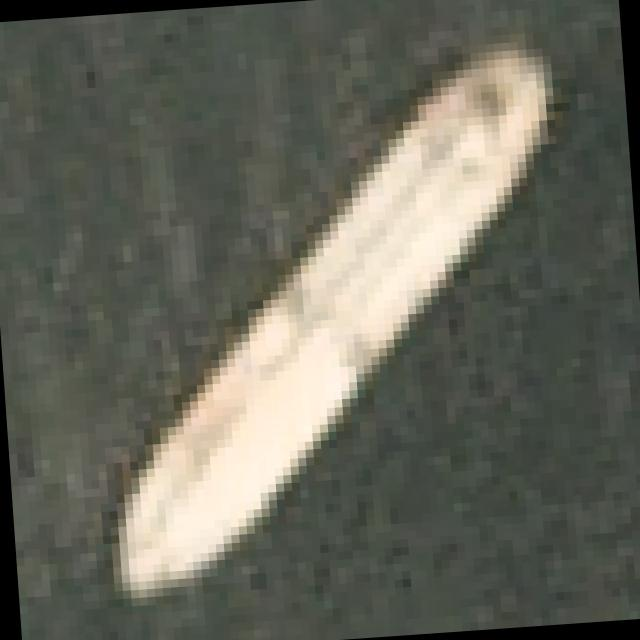ship: (72, 35, 598, 602)
